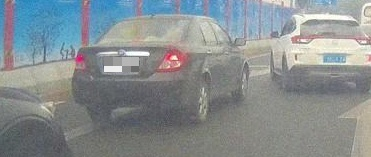L_light: (74, 53, 90, 72), (292, 35, 313, 44)
R_light: (155, 47, 188, 73), (355, 35, 370, 44)
T_light: (141, 19, 159, 23), (328, 35, 340, 38)
day-no: (288, 14, 371, 91)
day-right: (70, 13, 195, 124)
plate_1: (104, 57, 139, 72)
